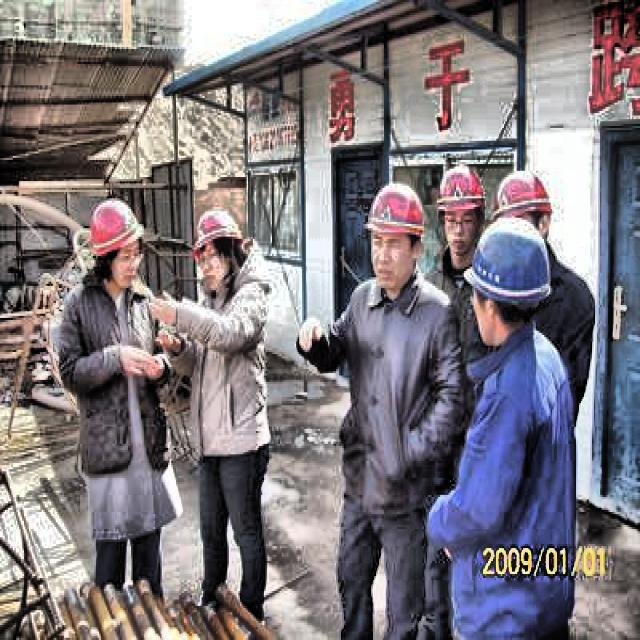helmet: (464, 220, 554, 341), (366, 183, 429, 294), (493, 168, 555, 262), (85, 194, 142, 288), (435, 162, 485, 267), (190, 211, 245, 297)
